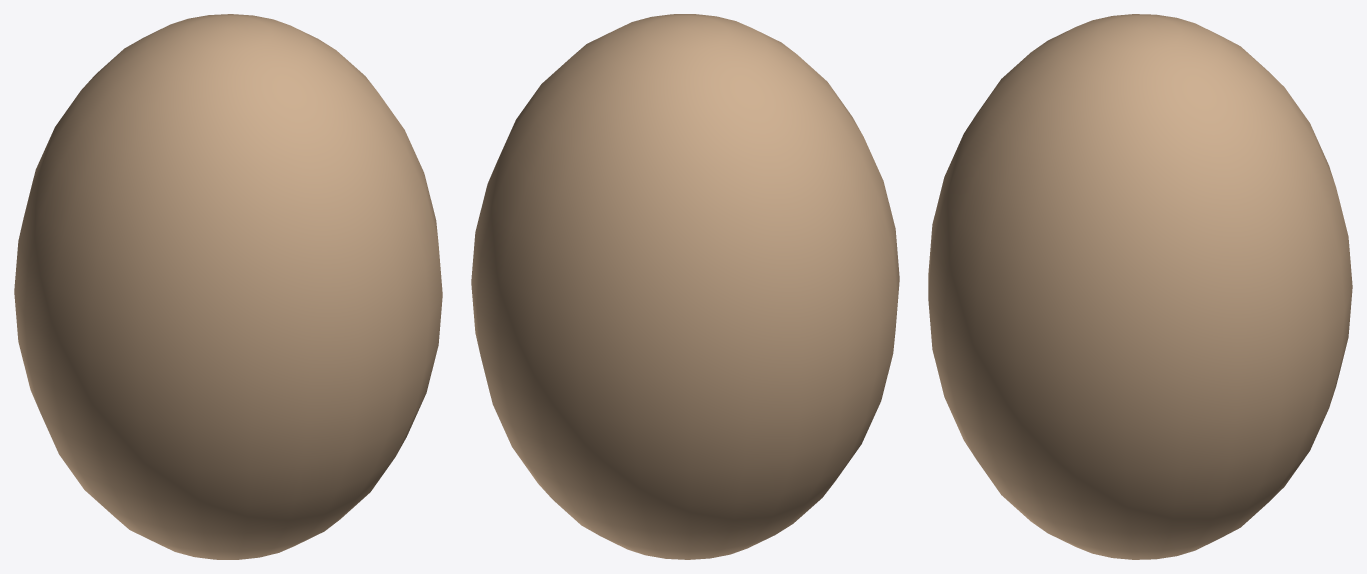
Rendered from prop14.fbx.
3 views of the same model, side by side, from view 1: azimuth 30°, elevation 25°; view 2: azimuth 150°, elevation 25°; view 3: azimuth 270°, elevation 25° (orthographic).
Visible parts, largest first — view 1: Sphere.002; view 2: Sphere.002; view 3: Sphere.002.
Part boxes in pixels (box(x1,y1,x2,y2)): Sphere.002: box(14, 14, 442, 559); Sphere.002: box(471, 14, 899, 559); Sphere.002: box(928, 14, 1352, 559).
Size of the model in its own units: 0.3888 by 0.3844 by 0.5156.
